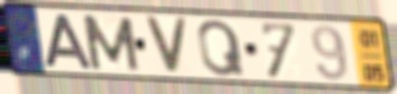7: (258, 20, 298, 81)
9: (308, 23, 351, 83)
A: (42, 12, 96, 71)
M: (79, 13, 143, 73)
Q: (195, 18, 248, 79)
V: (142, 14, 190, 77)
